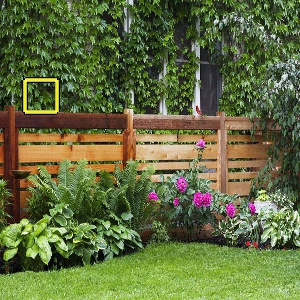square: (19, 74, 63, 117)
